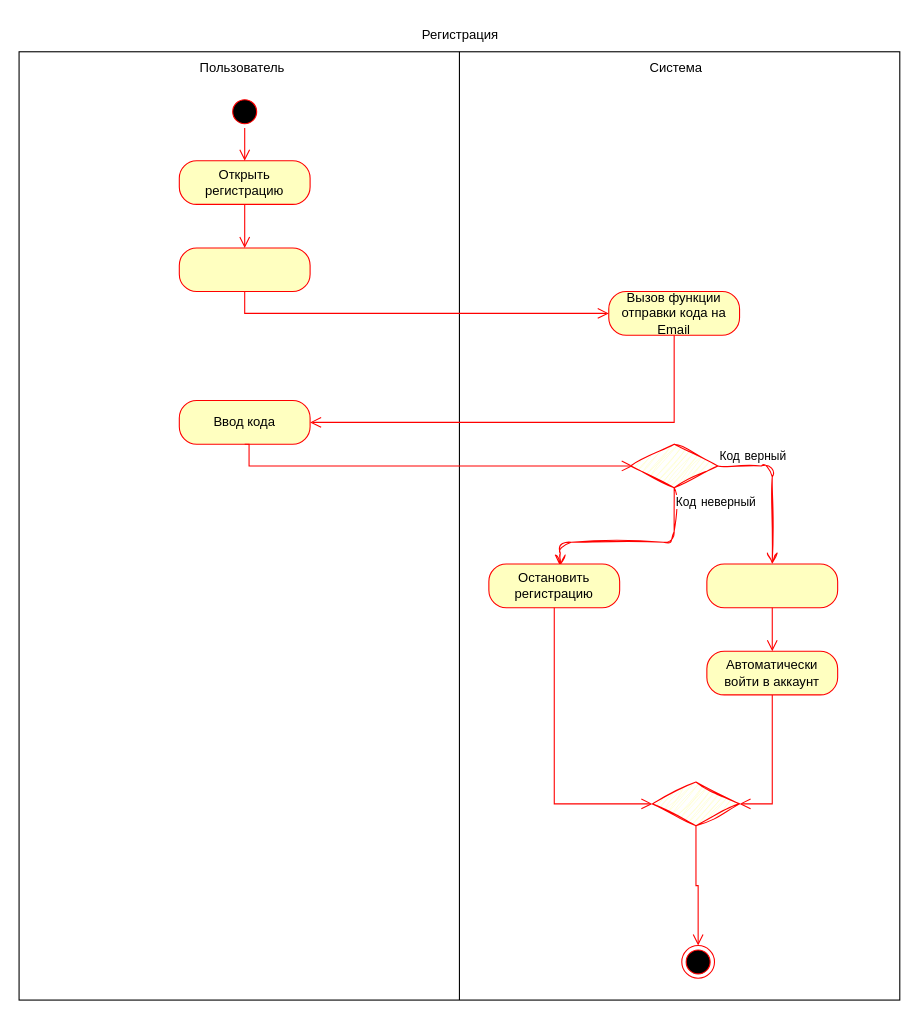
Some shapes in this 919 by 1020 pixel diagram are drawn without their labels. The centre of each missing label's shape, as x and y in pixels:
"Ввод данных" goes at point (244, 269).
"Создать пользователя в БД" goes at point (772, 585).
